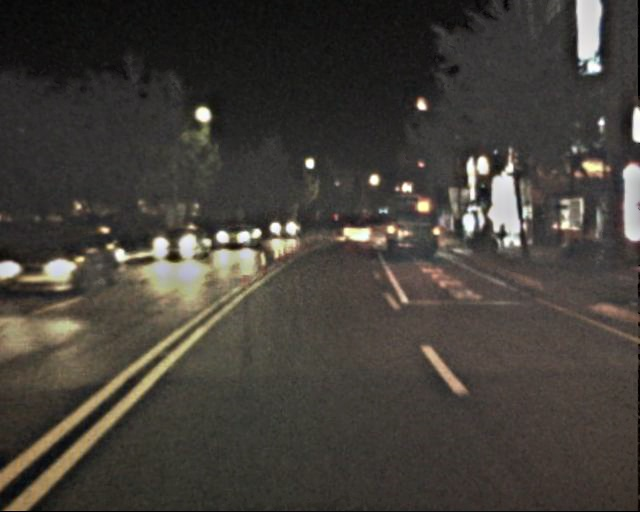person: (591, 223, 611, 272)
